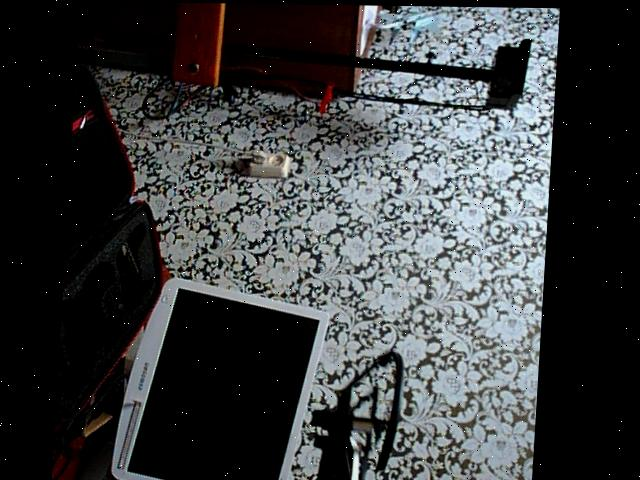drone: (291, 336, 428, 480)
